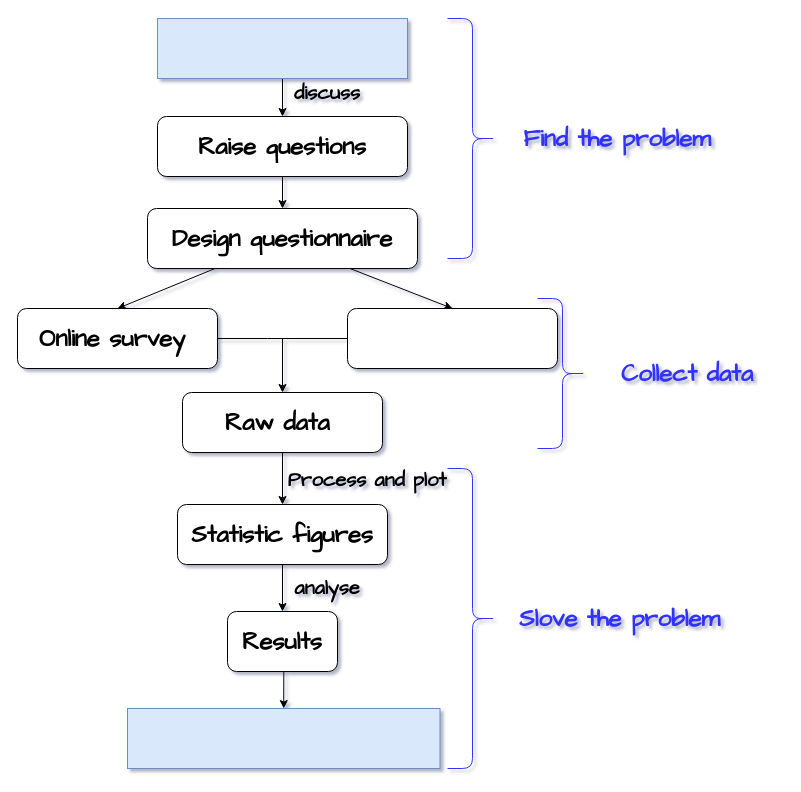
Image size: 801x792. Some labels were removed from this diagram. Each missing label, with the centre of its shape:
Offline interview: pixel 452 338
Suggestions and solutions: pixel 283 738
Topic: shuttle bus: pixel 282 48
